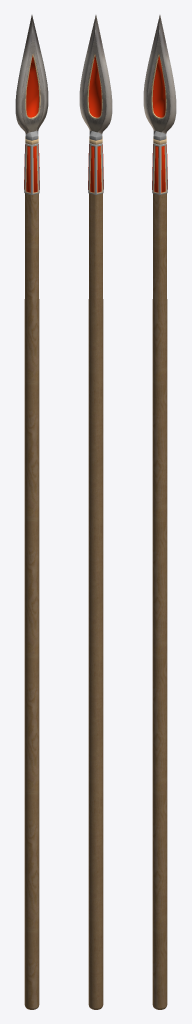
File: hell-staff.glb
The picture shows the model from 3 angles, left to right: view 1: azimuth 30°, elevation 25°; view 2: azimuth 150°, elevation 25°; view 3: azimuth 330°, elevation 25°; orthographic projection.
Parts seen in each view (by area): view 1: shaft, Prunkspieß tip; view 2: shaft, Prunkspieß tip; view 3: shaft, Prunkspieß tip.
Boxes of the visible parts, x1=… form: shaft: x1=24, y1=193, x2=39, y2=1009; Prunkspieß tip: x1=15, y1=15, x2=48, y2=194; shaft: x1=88, y1=193, x2=103, y2=1009; Prunkspieß tip: x1=79, y1=15, x2=112, y2=194; shaft: x1=152, y1=193, x2=167, y2=1009; Prunkspieß tip: x1=143, y1=15, x2=176, y2=194.
Bounding box in the file's own units: 0.0802 × 2.32 × 0.0341.
Materials: 5 (2 with a texture image).
